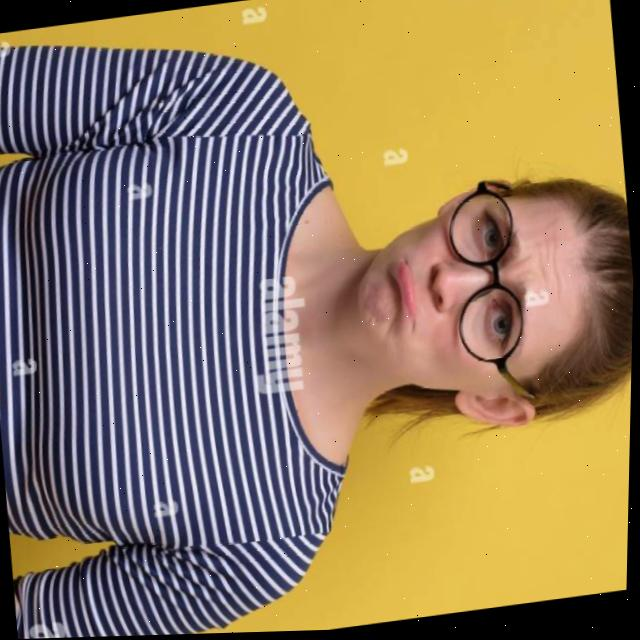sad: (334, 161, 637, 454)
